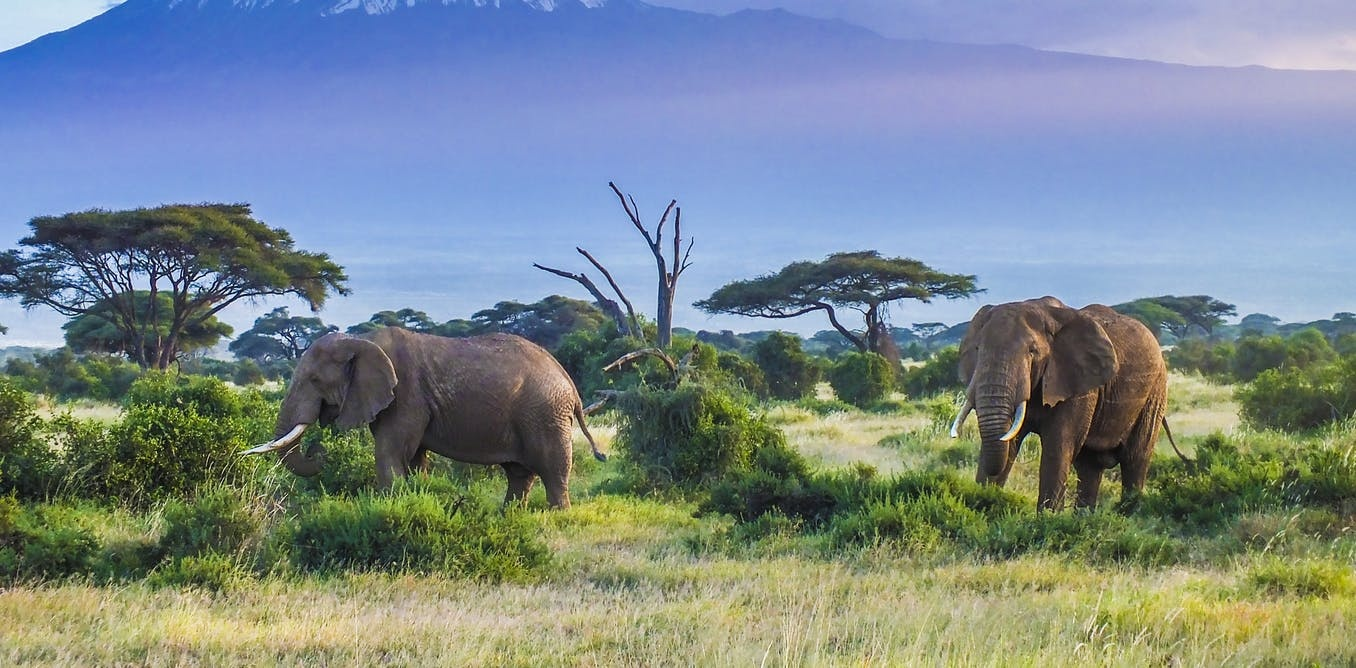elephant: (422, 413, 791, 607), (1059, 406, 1284, 633)
